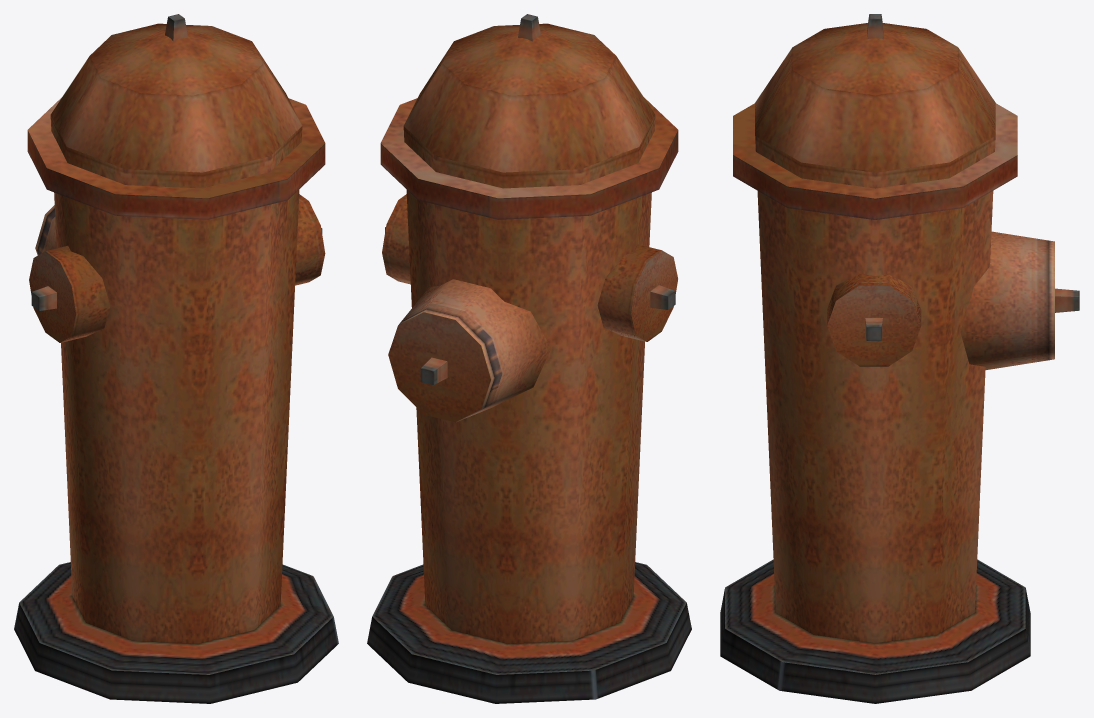
Rendered from fire_gidrant.FBX.
3 views of the same model, side by side, from view 1: azimuth 30°, elevation 25°; view 2: azimuth 150°, elevation 25°; view 3: azimuth 270°, elevation 25° (orthographic).
Parts seen in each view (by area): view 1: firehydrant1; view 2: firehydrant1; view 3: firehydrant1.
Part boxes in pixels (x1=…): firehydrant1: x1=14, y1=14, x2=338, y2=703; firehydrant1: x1=367, y1=14, x2=691, y2=703; firehydrant1: x1=720, y1=14, x2=1079, y2=703.
Bounding box in the file's own units: 14.74 × 30.77 × 16.22.
